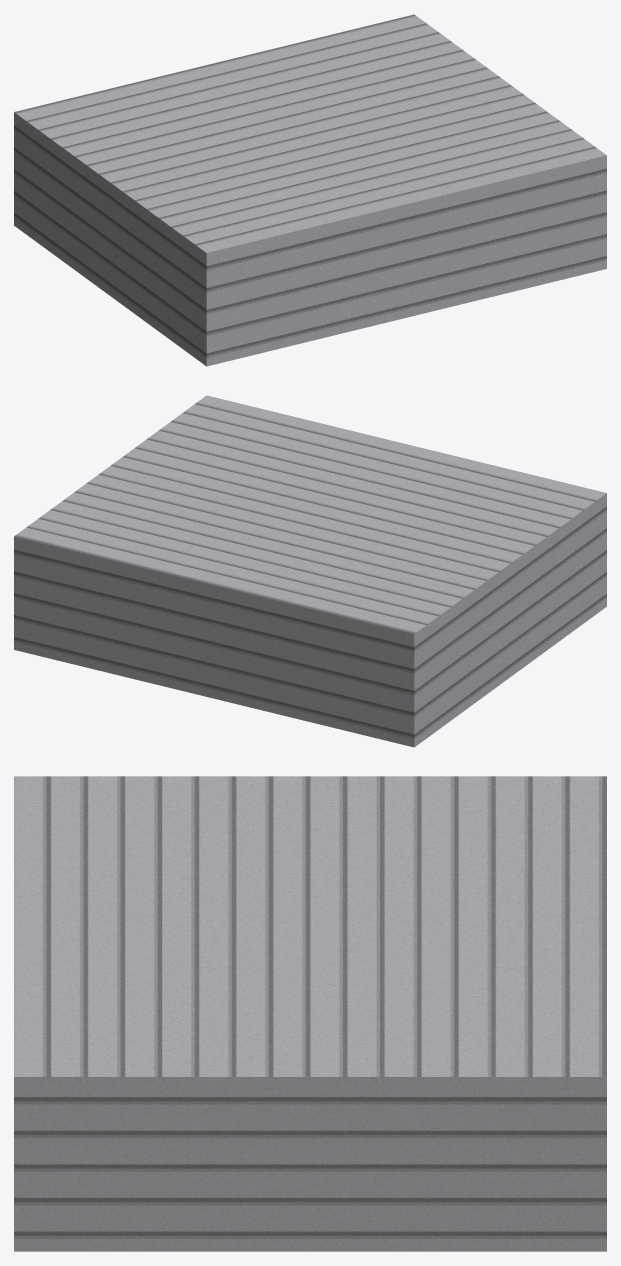
The model's file is sectional_sofa.glb.
3 renders of one model, top to bottom at view 1: azimuth 30°, elevation 25°; view 2: azimuth 150°, elevation 25°; view 3: azimuth 270°, elevation 25°, orthographic. The views are drawn at different scales.
Visible parts, largest first — view 1: sectional_sofa-col; view 2: sectional_sofa-col; view 3: sectional_sofa-col.
Boxes of the visible parts, left/top/right/bottom form: sectional_sofa-col: left=14, top=14, right=606, bottom=366; sectional_sofa-col: left=14, top=395, right=606, bottom=747; sectional_sofa-col: left=14, top=776, right=606, bottom=1251.
Size of the model in its own units: 2.4 by 0.65 by 2.
Materials: 1 (1 with a texture image).
